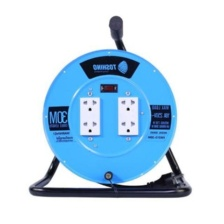three_eye_plug: (40, 44, 179, 186)
